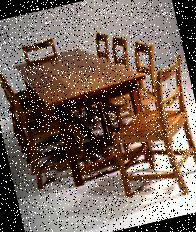Mesa: (14, 37, 160, 192)
Silla: (96, 53, 195, 211), (0, 64, 98, 193), (99, 40, 178, 157), (71, 32, 149, 139)
